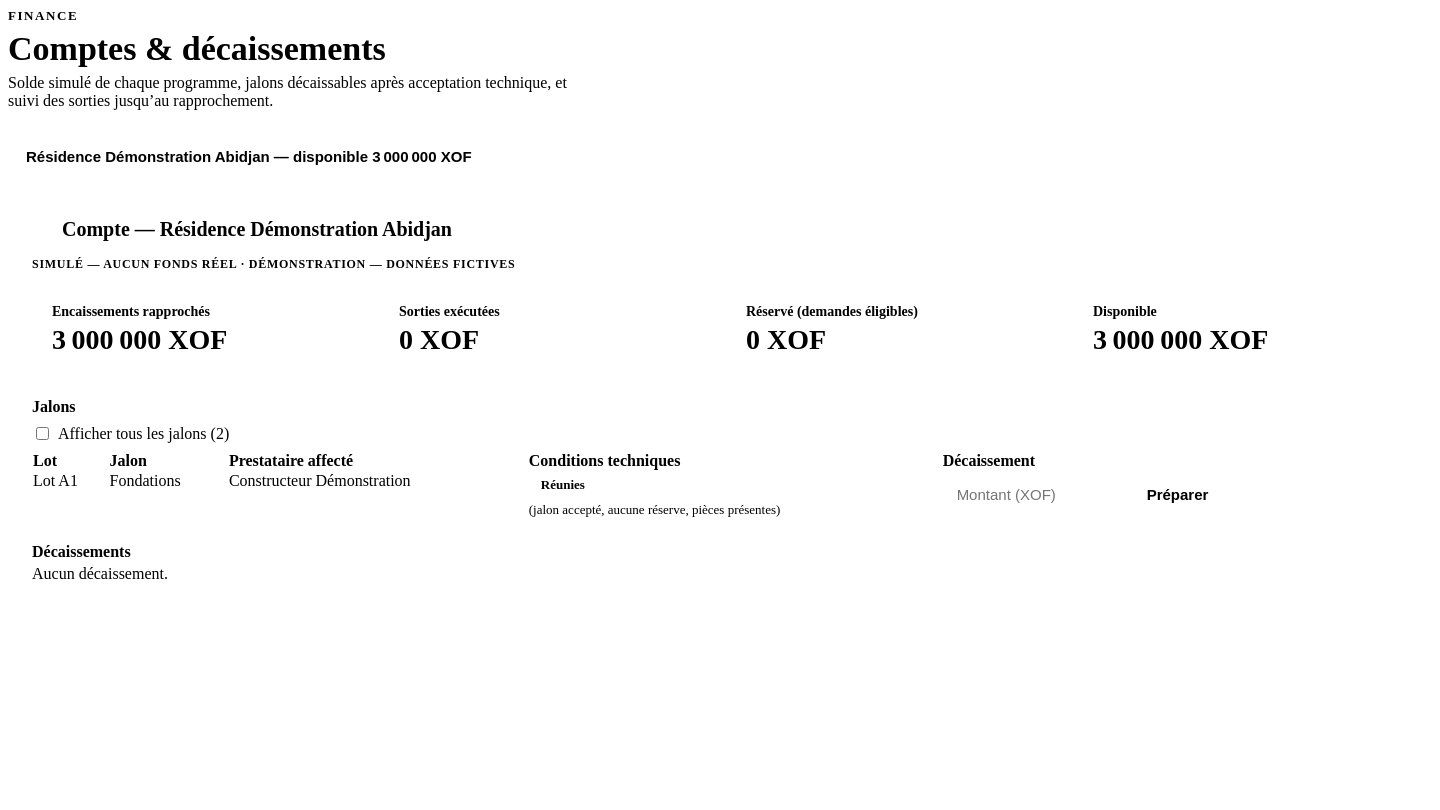
Test: FinanceAccountsView — comptes et décaissements (ticket F-068) › affiche le solde détaillé et les conditions techniques de chaque jalon
The width and height of the screenshot is (1440, 810).
Expected: the element with test id "balance-Disponible" reads "Disponible 3 000 000 XOF", x1=1093 y1=324 x2=1268 y2=355
Expected: the cell with test id "milestone-conditions-fondations" shows "Réunies", x1=541 y1=477 x2=585 y2=492
Click the checkbox labelled "Afficher tous les jalons (2)" at (42, 434), box x1=36 y1=427 x2=49 y2=440
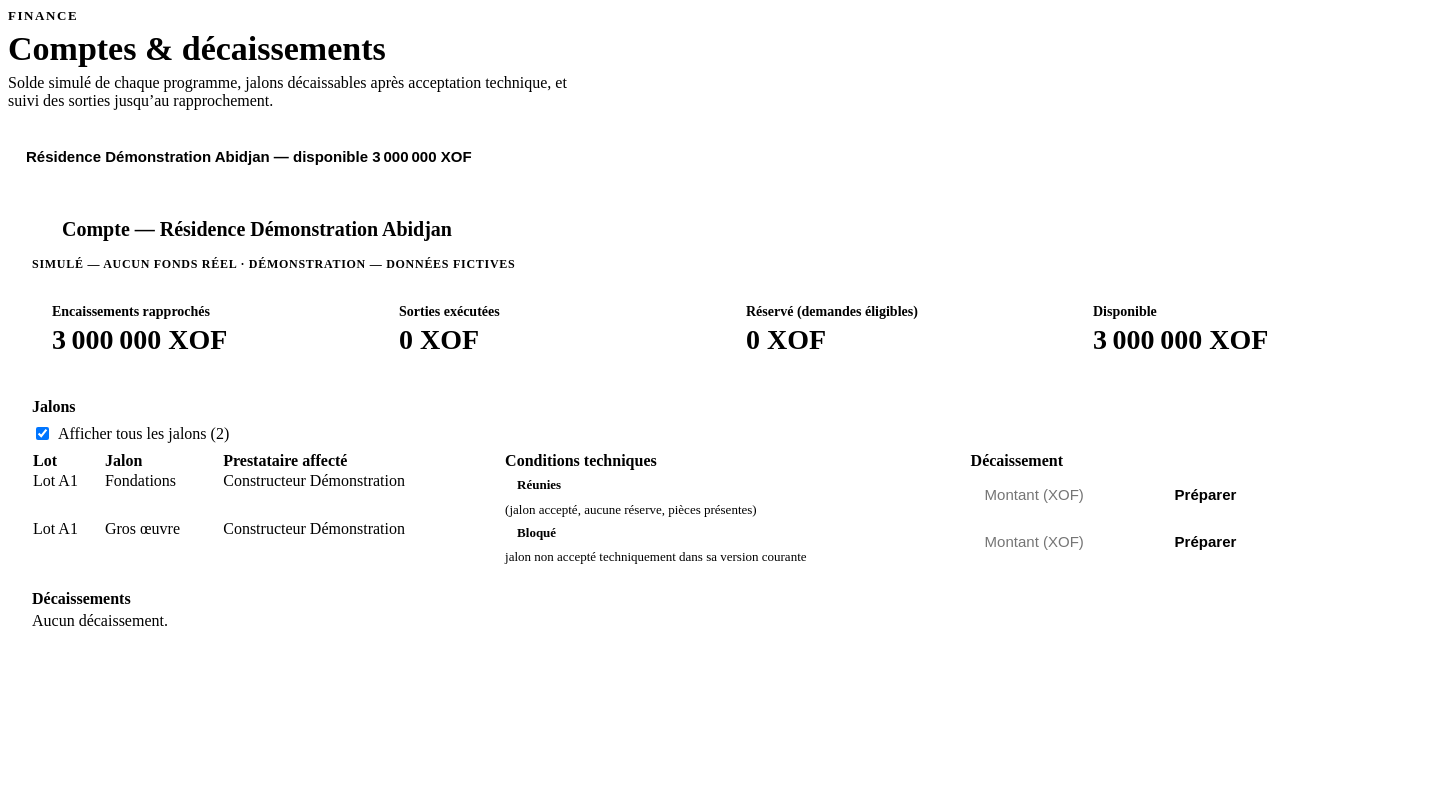
Now the cell with test id "milestone-conditions-gros_oeuvre" shows "jalon non accepté", box x1=505 y1=549 x2=806 y2=564
